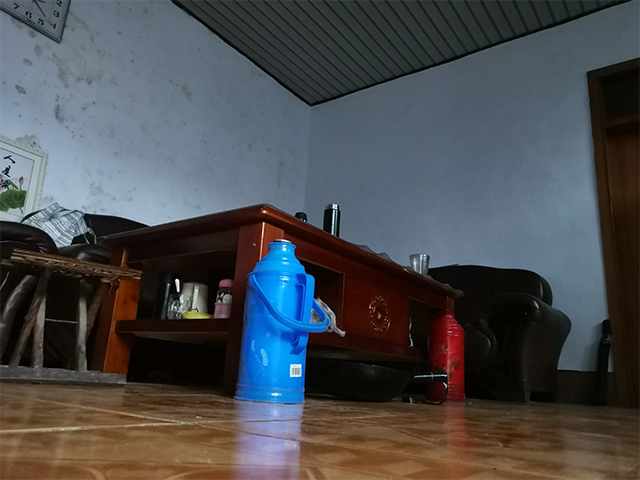sofa: (409, 262, 573, 405)
stool: (1, 247, 145, 390)
table: (89, 201, 468, 402)
